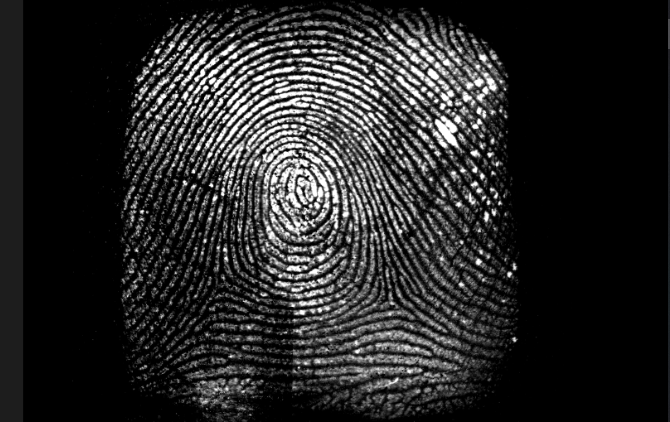nucelo: (284, 167, 318, 210)
verticilo: (368, 281, 407, 313), (200, 273, 234, 309)
